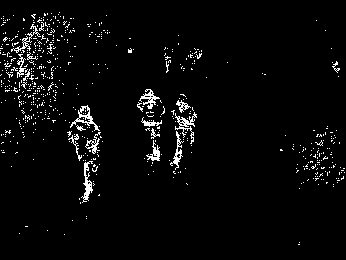person: (68, 105, 101, 204), (169, 93, 197, 171), (137, 88, 165, 163)
